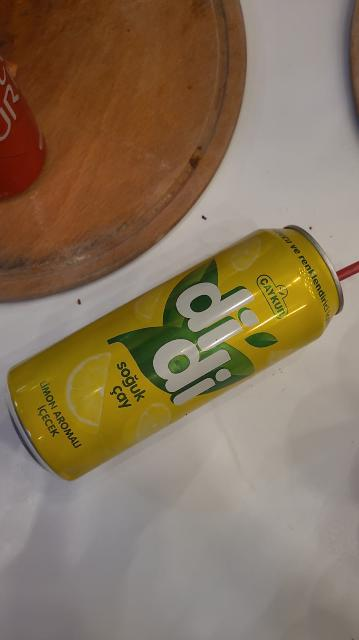Metal: (4, 223, 347, 479)
Plastik: (332, 230, 359, 285)
